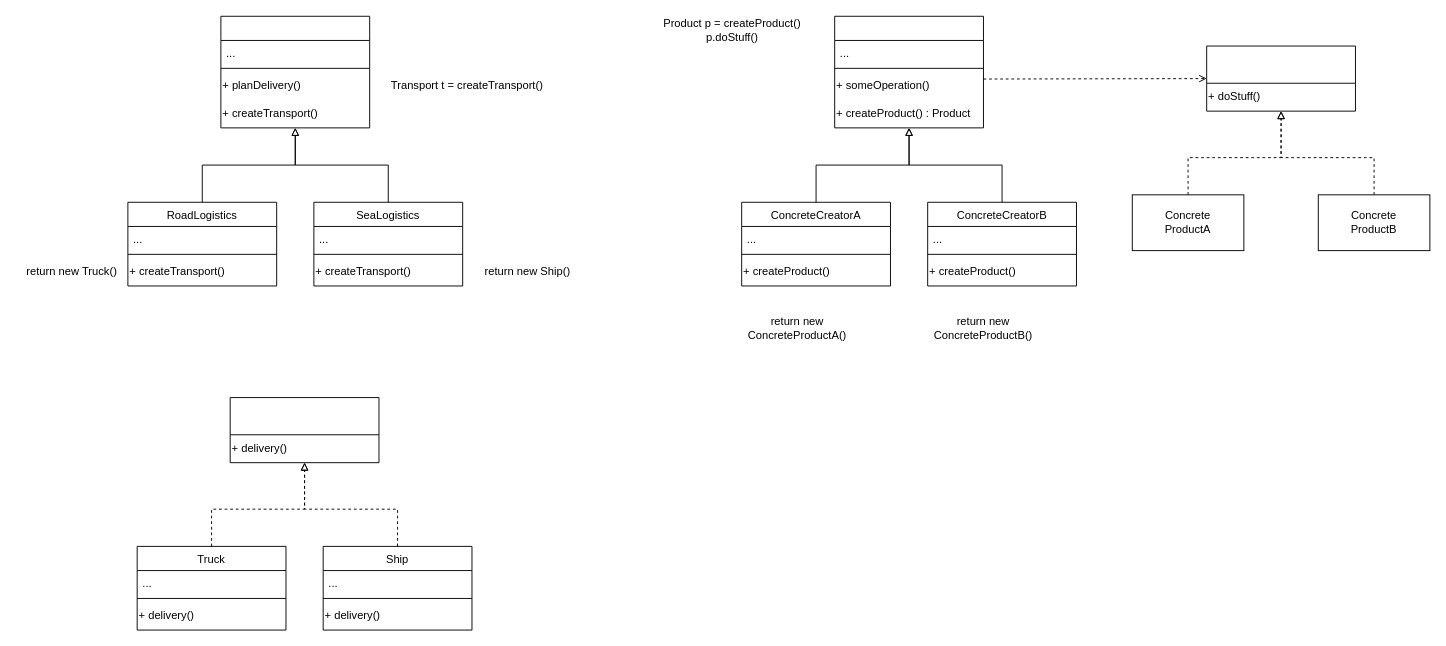
Some shapes in this 1446 by 646 pixel diagram are drawn without their labels. Each missing label, with the box of its shape:
Creator: (834, 15, 983, 128)
Logistics: (220, 15, 370, 128)
《interface》 Product: (1206, 45, 1355, 111)
《interface》 Transport: (229, 397, 379, 463)
